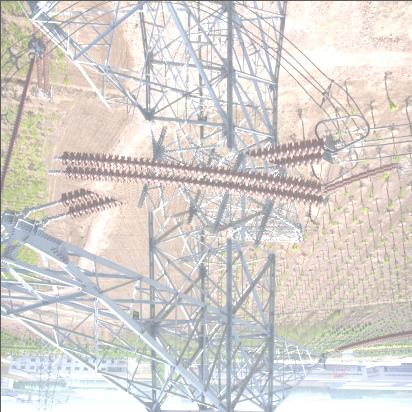insulator: (50, 116, 331, 244), (320, 165, 401, 194)
